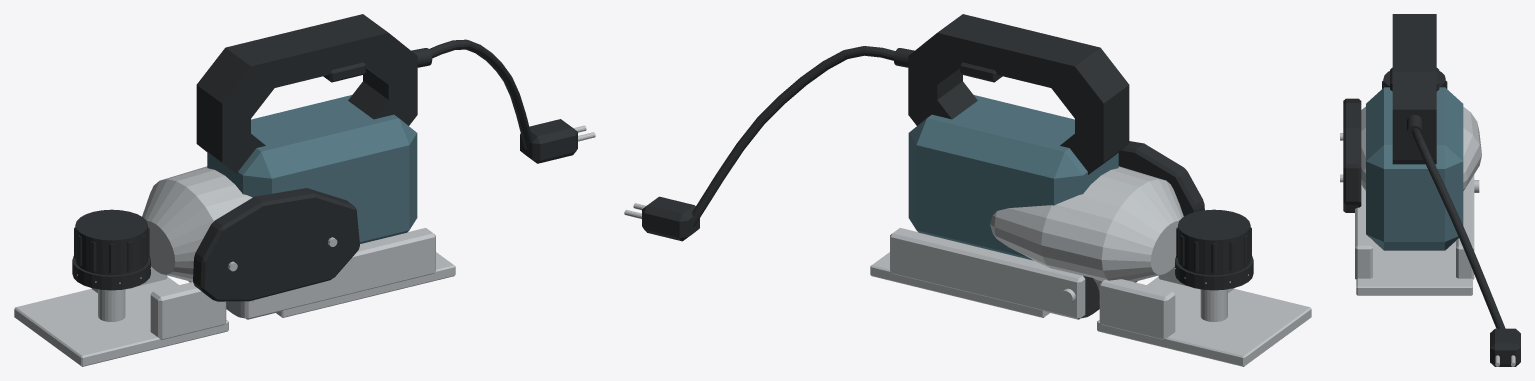
Rendered from full.fbx.
The picture shows the model from 3 angles, left to right: view 1: azimuth 30°, elevation 25°; view 2: azimuth 150°, elevation 25°; view 3: azimuth 270°, elevation 25°; orthographic projection. The views are drawn at different scales.
Parts seen in each view (by area): view 1: Rear motor housing, Open arched rear D handle, Asymmetric belt cover, Front adjustable sole, Curved cast cutter housing, Sole support -0.039, Ribbed round depth knob, Front sole support -0.039, Generic complete plug, Complete generic cord, Rear fixed sole, Depth setting collar (+2 smaller); view 2: Rear motor housing, Open arched rear D handle, Curved cast cutter housing, Sole support 0.039, Front adjustable sole, Ribbed round depth knob, Front sole support 0.039, Complete generic cord, Asymmetric belt cover, Generic complete plug, Rear fixed sole, Depth setting collar (+2 smaller); view 3: Rear motor housing, Open arched rear D handle, Rear fixed sole, Asymmetric belt cover, Complete generic cord, Curved cast cutter housing, Sole support -0.039, Sole support 0.039, Generic complete plug, Rear cord strain relief, Ribbed round depth knob.
Part boxes in pixels (box(x1,y1,x2,y2)): Rear motor housing: box(207, 95, 417, 243); Open arched rear D handle: box(196, 14, 417, 174); Asymmetric belt cover: box(193, 188, 359, 301); Front adjustable sole: box(14, 276, 228, 366); Curved cast cutter housing: box(142, 166, 252, 281); Sole support -0.039: box(240, 228, 435, 319); Ribbed round depth knob: box(75, 209, 147, 275); Front sole support -0.039: box(150, 282, 226, 339); Generic complete plug: box(520, 119, 577, 163); Complete generic cord: box(429, 39, 532, 149); Rear fixed sole: box(276, 231, 455, 317); Depth setting collar: box(72, 256, 150, 290); Rear motor housing: box(908, 95, 1118, 260); Open arched rear D handle: box(908, 14, 1129, 174); Curved cast cutter housing: box(990, 166, 1183, 281); Sole support 0.039: box(890, 228, 1085, 319); Front adjustable sole: box(1097, 276, 1311, 366); Ribbed round depth knob: box(1178, 209, 1250, 275); Front sole support 0.039: box(1099, 279, 1175, 339); Complete generic cord: box(692, 46, 895, 226); Asymmetric belt cover: box(1118, 141, 1204, 216); Generic complete plug: box(642, 196, 699, 241); Rear fixed sole: box(870, 231, 1049, 317); Depth setting collar: box(1175, 256, 1253, 290); Rear motor housing: box(1366, 87, 1463, 250); Open arched rear D handle: box(1392, 14, 1436, 164); Rear fixed sole: box(1356, 241, 1472, 295); Asymmetric belt cover: box(1343, 98, 1361, 212); Complete generic cord: box(1411, 128, 1505, 328); Curved cast cutter housing: box(1361, 106, 1481, 190); Sole support -0.039: box(1355, 185, 1372, 279); Sole support 0.039: box(1456, 175, 1474, 279); Generic complete plug: box(1490, 328, 1520, 366); Rear cord strain relief: box(1406, 115, 1422, 139); Ribbed round depth knob: box(1383, 71, 1445, 87).
Bounding box in the file's own units: 45.39 × 17.45 × 13.95.
